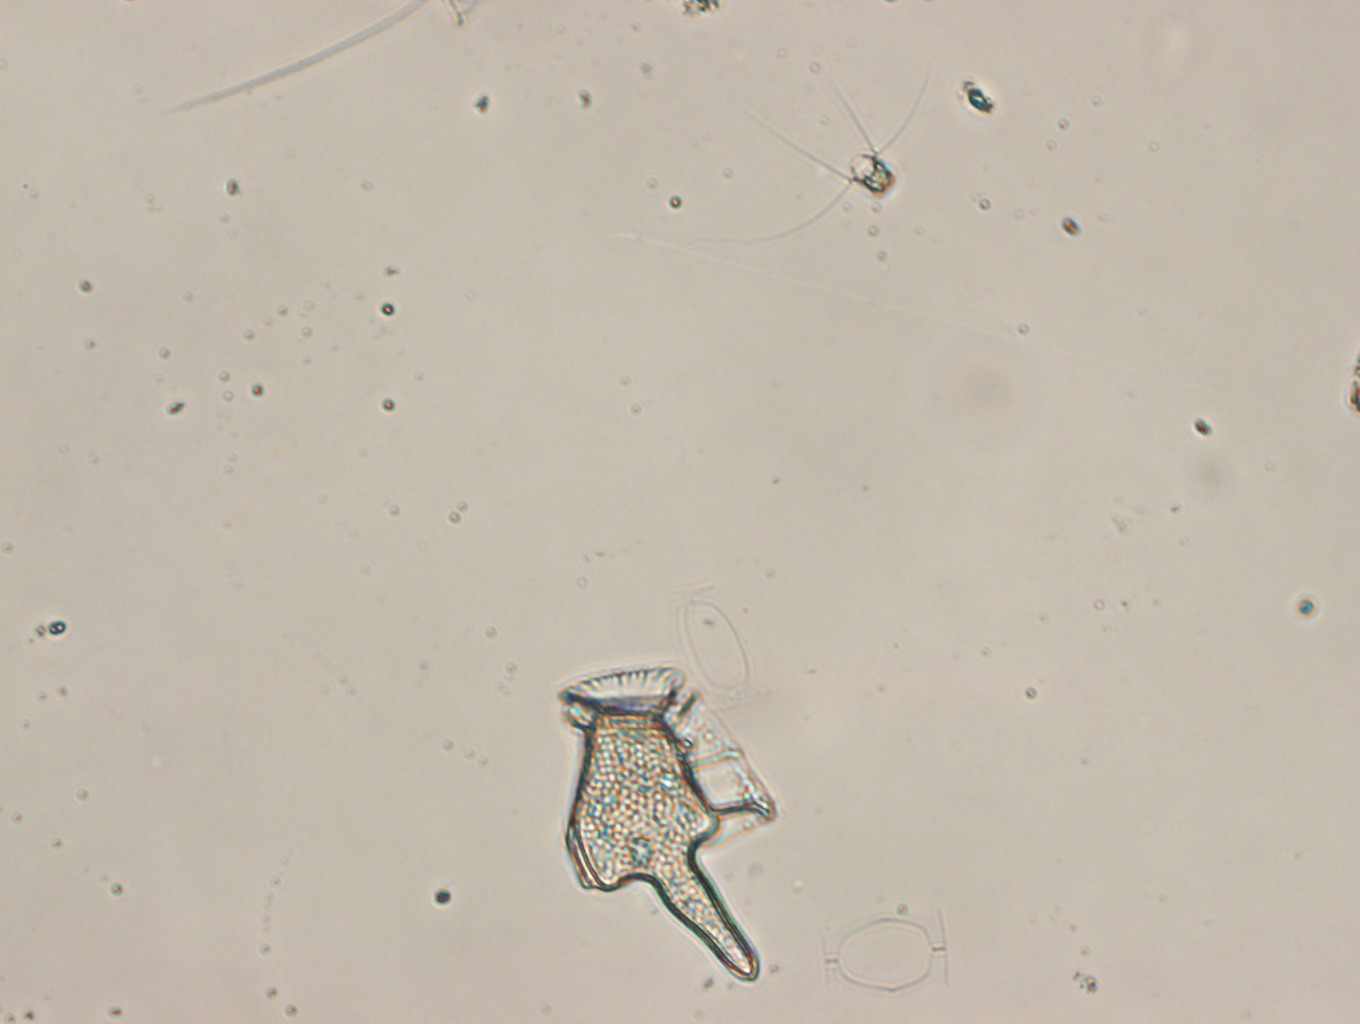chaetoceros: (707, 61, 953, 244)
dinophysis caudata: (557, 664, 779, 983)
